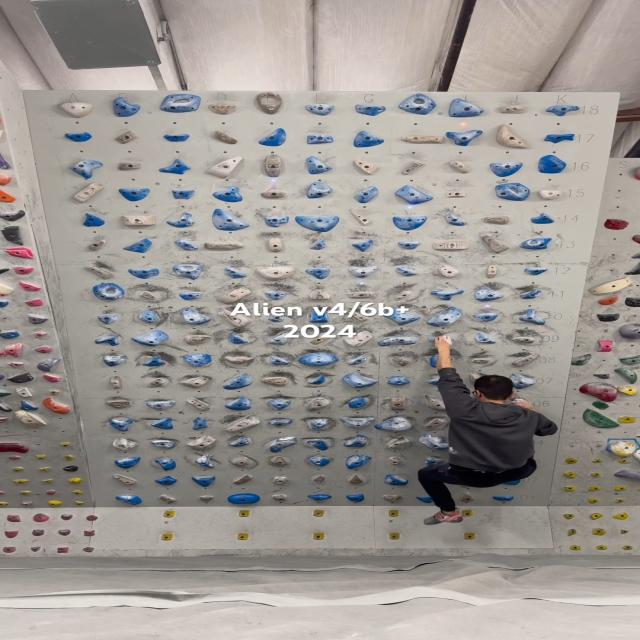A1: (115, 494, 143, 506)
A10: (97, 314, 119, 324)
A11: (93, 282, 125, 300)
A12: (86, 266, 114, 280)
A13: (88, 240, 106, 251)
A14: (82, 213, 105, 227)
A15: (72, 182, 105, 203)
A16: (70, 159, 104, 179)
A17: (65, 132, 92, 142)
A18: (59, 101, 95, 119)
A2: (112, 474, 137, 486)
A3: (114, 456, 141, 469)
A4: (112, 437, 139, 450)
A5: (110, 418, 134, 432)
A6: (107, 400, 131, 409)
A7: (111, 376, 123, 389)
A8: (103, 355, 129, 367)
A9: (95, 335, 119, 346)
B1: (158, 494, 178, 503)
B10: (138, 310, 158, 324)
B11: (140, 291, 156, 300)
B12: (128, 269, 160, 279)
B13: (124, 238, 152, 254)
B14: (122, 215, 156, 227)
B15: (119, 188, 150, 201)
B16: (118, 161, 143, 171)
B17: (115, 130, 139, 144)
B18: (113, 98, 140, 118)
B2: (154, 476, 178, 486)
B3: (154, 458, 177, 471)
B4: (150, 440, 176, 449)
B5: (151, 417, 174, 430)
B6: (146, 400, 177, 410)
B7: (149, 378, 167, 387)
B8: (142, 356, 166, 367)
B9: (131, 330, 169, 347)
C1: (199, 495, 214, 501)
C10: (180, 307, 212, 325)
C11: (178, 292, 202, 300)
C12: (174, 264, 204, 279)
C13: (173, 239, 198, 251)
C14: (166, 212, 196, 228)
C15: (172, 190, 195, 200)
C16: (158, 159, 191, 175)
C17: (164, 134, 190, 142)
C18: (159, 94, 201, 113)
C2: (192, 476, 216, 488)
C3: (194, 454, 215, 468)
C4: (185, 434, 217, 450)
C5: (192, 417, 208, 430)
C6: (186, 398, 210, 411)
C7: (180, 374, 212, 388)
C8: (183, 353, 212, 367)
C9: (185, 336, 211, 345)
D1: (227, 494, 260, 504)
D11: (218, 286, 252, 304)
D12: (223, 267, 247, 279)
D13: (204, 242, 245, 250)
D14: (212, 208, 249, 231)
D15: (212, 185, 243, 202)
D16: (205, 155, 243, 179)
D17: (211, 131, 239, 145)
D18: (208, 104, 239, 115)
D2: (233, 474, 253, 484)
D3: (234, 457, 250, 466)
D4: (229, 436, 251, 447)
D5: (224, 415, 260, 432)
D6: (225, 396, 252, 410)
D7: (221, 374, 255, 391)
D8: (224, 356, 255, 364)
D9: (228, 333, 248, 344)
E1: (272, 494, 288, 501)
E11: (264, 292, 286, 301)
E12: (256, 266, 296, 280)
E13: (268, 238, 282, 252)
E14: (264, 216, 290, 228)
E15: (261, 191, 286, 198)
E16: (264, 154, 282, 178)
E17: (258, 128, 286, 147)
E18: (254, 92, 282, 115)
E2: (273, 476, 290, 486)
E3: (270, 456, 290, 466)
E4: (269, 437, 298, 452)
E5: (268, 418, 292, 426)
E6: (267, 398, 292, 411)
E7: (262, 377, 288, 386)
E8: (269, 355, 289, 366)
F: (238, 510, 251, 518), (312, 509, 325, 517), (164, 510, 176, 518), (162, 533, 174, 541), (313, 532, 325, 540), (462, 509, 474, 517), (389, 532, 400, 540), (237, 533, 249, 540), (387, 509, 399, 516), (464, 533, 476, 540)
F1: (307, 494, 332, 501)
F11: (309, 289, 330, 299)
F12: (306, 268, 330, 280)
F13: (310, 239, 329, 251)
F14: (294, 215, 340, 232)
F15: (306, 182, 332, 199)
F16: (305, 156, 331, 175)
F17: (306, 135, 334, 145)
F18: (304, 104, 335, 116)
F2: (313, 475, 326, 483)
F3: (305, 456, 330, 466)
F4: (306, 438, 328, 451)
F5: (310, 418, 330, 429)
F6: (305, 397, 330, 411)
F7: (308, 374, 326, 385)
F8: (298, 352, 340, 366)
G1: (345, 493, 365, 502)
G11: (347, 292, 375, 298)
G12: (347, 266, 378, 278)
G13: (352, 239, 374, 252)
G14: (351, 212, 372, 227)
G15: (354, 186, 378, 204)
G16: (353, 159, 381, 176)
G17: (354, 131, 385, 148)
G18: (355, 104, 386, 116)
G2: (348, 474, 363, 484)
G3: (345, 454, 372, 470)
G4: (342, 434, 368, 448)
G5: (341, 416, 374, 429)
G6: (348, 397, 367, 409)
G7: (342, 372, 378, 388)
G8: (345, 355, 368, 366)
H1: (382, 494, 402, 501)
H11: (394, 291, 412, 301)
H12: (396, 266, 419, 276)
H13: (397, 240, 421, 250)
H14: (392, 216, 426, 230)
H15: (394, 185, 433, 205)
H16: (402, 160, 425, 175)
H17: (401, 134, 446, 143)
H18: (398, 93, 436, 115)
H2: (384, 473, 408, 486)
H3: (388, 457, 402, 465)
H4: (385, 436, 410, 449)
H5: (374, 416, 412, 431)
H6: (387, 396, 407, 410)
H7: (387, 376, 410, 386)
H8: (391, 355, 409, 366)
H9: (377, 336, 418, 346)
I10: (425, 306, 463, 326)
I11: (430, 290, 464, 300)
I12: (437, 264, 459, 278)
I13: (432, 241, 470, 250)
I14: (444, 214, 466, 226)
I15: (446, 191, 466, 198)
I16: (448, 160, 471, 174)
I17: (446, 130, 483, 147)
I18: (448, 98, 483, 118)
I5: (425, 418, 444, 428)
J1: (458, 492, 474, 502)
J10: (473, 314, 498, 322)
J11: (474, 287, 503, 301)
J12: (485, 264, 498, 278)
J13: (481, 235, 509, 254)
J14: (482, 216, 510, 224)
J15: (495, 183, 529, 201)
J16: (488, 162, 522, 177)
J17: (495, 124, 529, 149)
J18: (499, 104, 530, 114)
J8: (472, 358, 491, 363)
J9: (474, 333, 496, 344)
K1: (492, 495, 515, 502)
K10: (519, 309, 545, 325)
K11: (520, 289, 542, 299)
K12: (523, 268, 548, 276)
K13: (519, 238, 551, 250)
K14: (530, 213, 554, 224)
K15: (539, 189, 563, 201)
K16: (537, 155, 567, 174)
K17: (543, 134, 575, 144)
K18: (546, 105, 580, 116)
K8: (511, 353, 540, 367)
K9: (512, 336, 534, 343)
